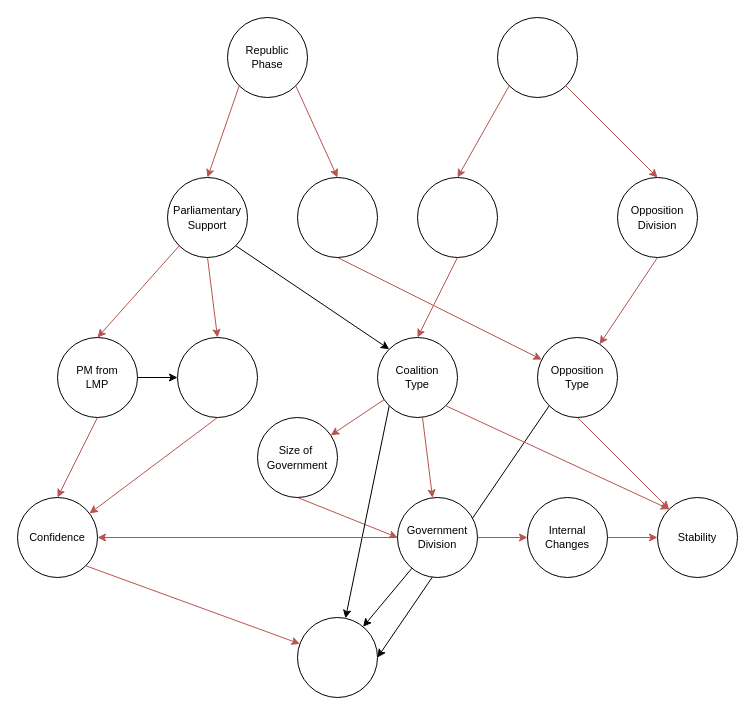
Some shapes in this 755 by 715 pixel diagram are drawn without their labels. The centre of each missing label's shape, as x and y in pixels:
"Decade" goes at point (537, 57).
"Fall Cause" goes at point (337, 657).
"Majority Division" goes at point (457, 217).
"Non-political PM" goes at point (217, 377).
"Parliamentary Opposition" goes at point (337, 217).
